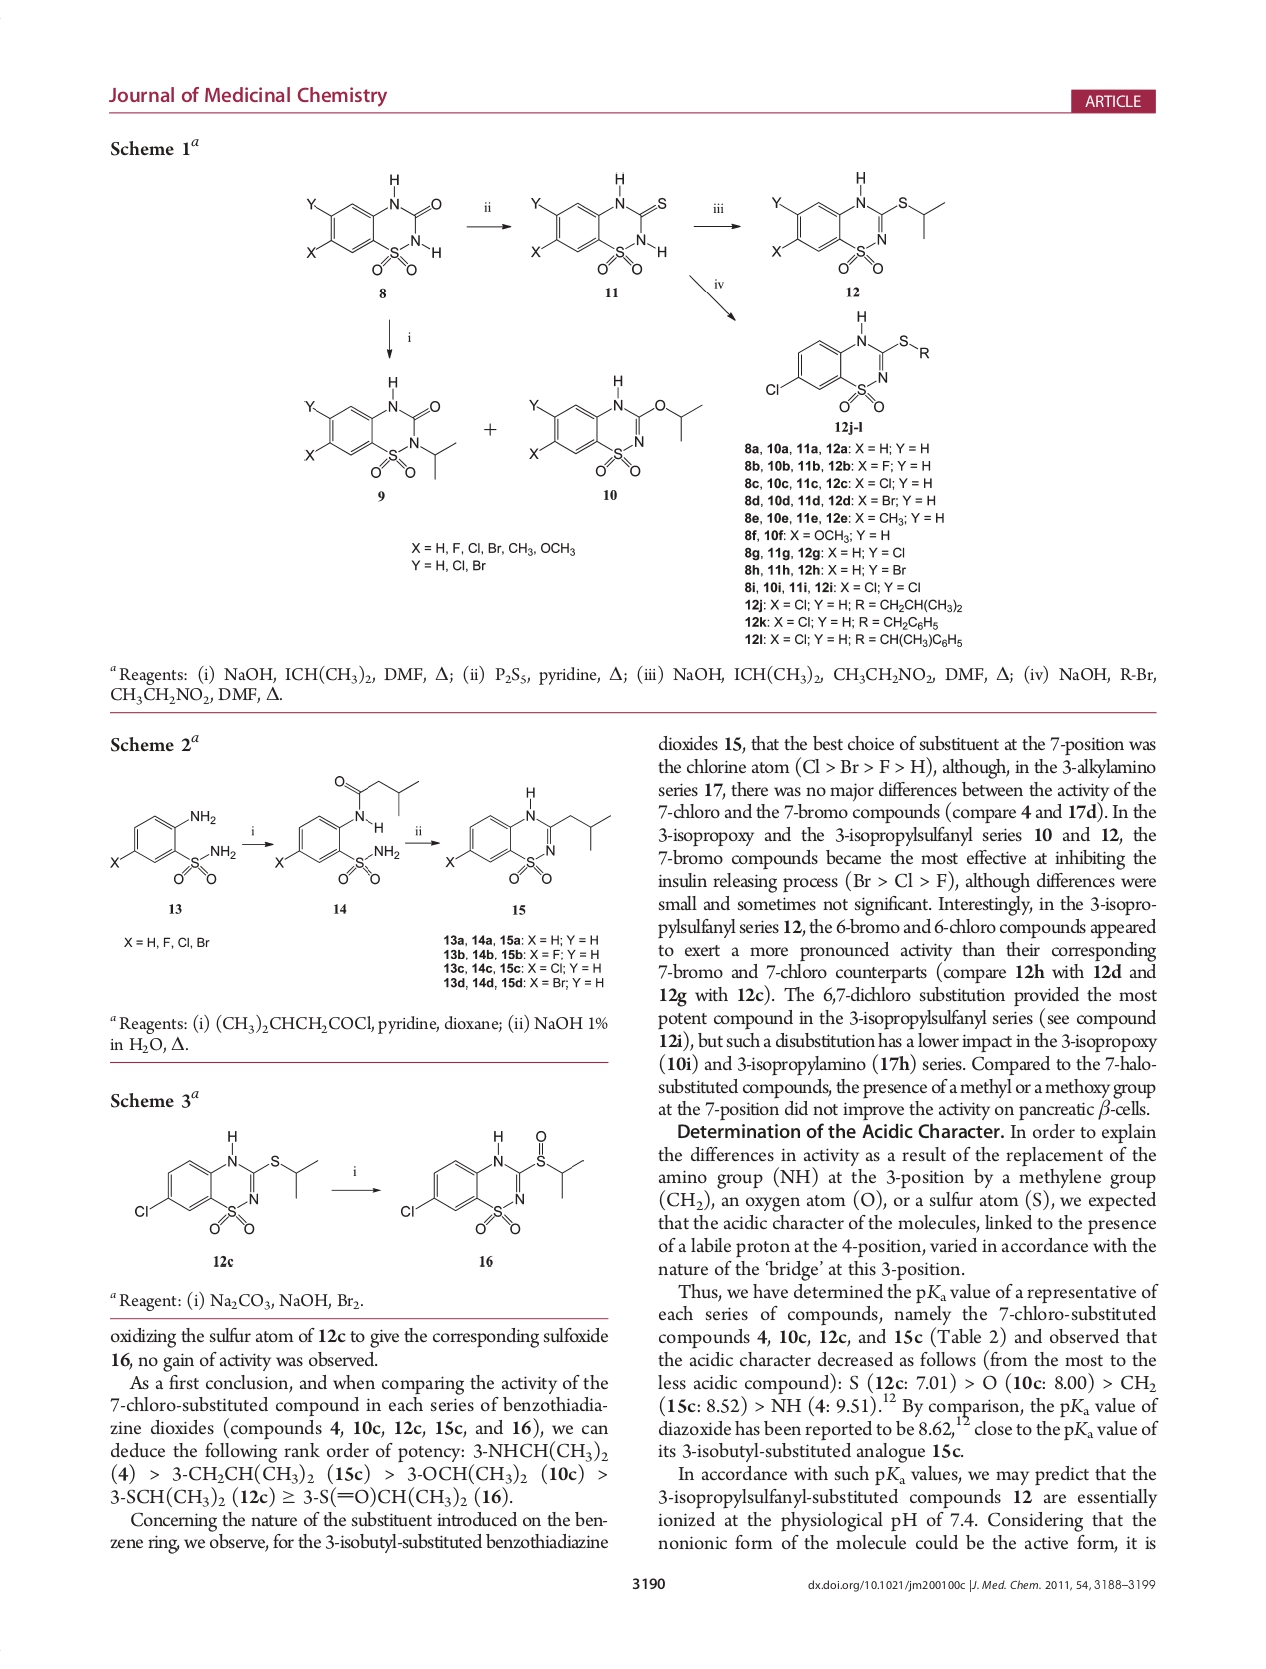exist_molecular: (133, 1126, 322, 1239), (762, 166, 949, 278), (396, 1129, 585, 1237), (525, 371, 705, 481), (763, 305, 934, 418), (293, 372, 463, 481), (442, 785, 614, 887), (273, 771, 422, 887), (521, 169, 672, 278), (299, 172, 448, 281), (108, 805, 237, 886)
